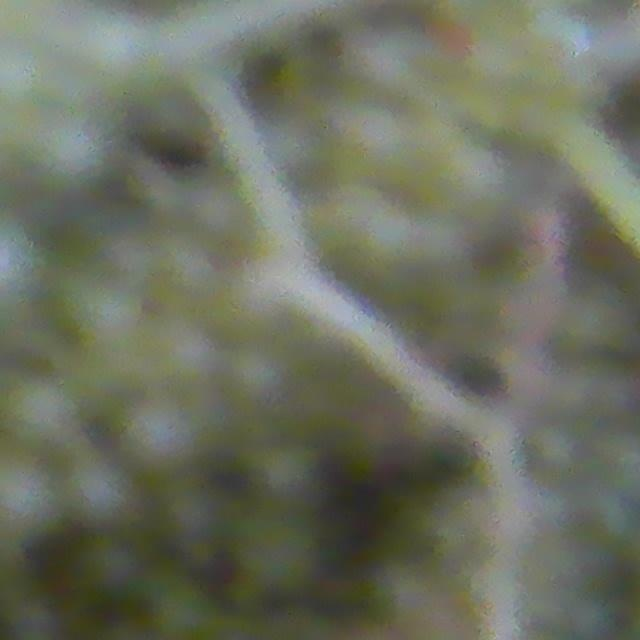SeaGrape: (233, 511, 323, 597), (121, 392, 193, 468), (0, 378, 73, 451), (23, 129, 102, 196), (75, 533, 146, 602), (157, 479, 226, 550), (73, 17, 131, 92), (63, 458, 129, 522), (226, 343, 288, 410), (0, 466, 53, 544), (0, 36, 49, 106)
